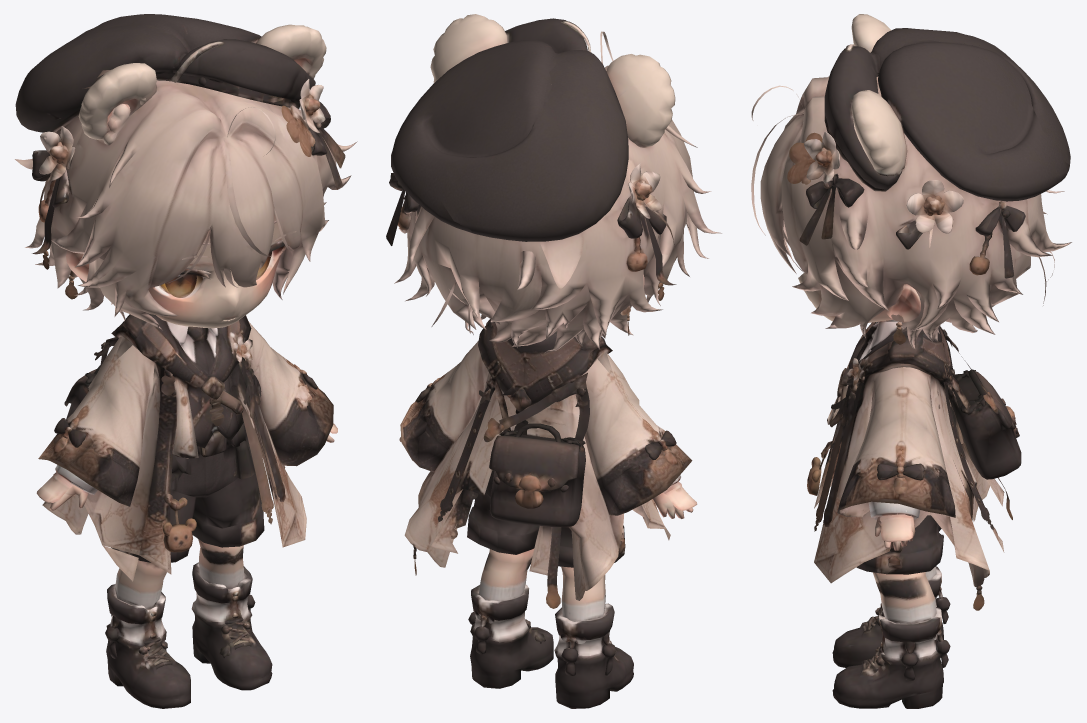
The model's file is source.glb.
3 views of the same model, side by side, from view 1: azimuth 30°, elevation 25°; view 2: azimuth 150°, elevation 25°; view 3: azimuth 270°, elevation 25° (orthographic). The views are drawn at different scales.
Visible parts, largest first — view 1: tripo_part_0, tripo_part_1, tripo_part_19, tripo_part_4, tripo_part_5, tripo_part_2, tripo_part_3, tripo_part_15, tripo_part_11, tripo_part_9, tripo_part_13, tripo_part_8 (+18 smaller); view 2: tripo_part_0, tripo_part_4, tripo_part_1, tripo_part_8, tripo_part_19, tripo_part_6, tripo_part_5, tripo_part_2, tripo_part_3, tripo_part_13, tripo_part_14, tripo_part_9 (+11 smaller); view 3: tripo_part_0, tripo_part_8, tripo_part_1, tripo_part_5, tripo_part_2, tripo_part_11, tripo_part_6, tripo_part_14, tripo_part_4, tripo_part_36, tripo_part_9, tripo_part_16 (+12 smaller).
Part boxes in pixels (box(x1,y1,x2,y2)): tripo_part_0: box(15, 69, 357, 330); tripo_part_1: box(42, 313, 306, 574); tripo_part_19: box(38, 337, 154, 506); tripo_part_4: box(15, 23, 187, 132); tripo_part_5: box(245, 321, 333, 466); tripo_part_2: box(191, 562, 272, 690); tripo_part_3: box(106, 584, 190, 708); tripo_part_15: box(66, 214, 283, 328); tripo_part_11: box(172, 39, 315, 102); tripo_part_9: box(192, 460, 264, 547); tripo_part_13: box(78, 63, 156, 140); tripo_part_8: box(49, 14, 261, 132); tripo_part_0: box(394, 65, 721, 352); tripo_part_4: box(440, 50, 628, 241); tripo_part_1: box(404, 319, 665, 600); tripo_part_8: box(391, 40, 561, 232); tripo_part_19: box(575, 353, 692, 515); tripo_part_6: box(489, 434, 585, 527); tripo_part_5: box(400, 341, 488, 472); tripo_part_2: box(470, 585, 553, 688); tripo_part_3: box(554, 603, 633, 708); tripo_part_13: box(606, 54, 675, 147); tripo_part_14: box(430, 14, 507, 82); tripo_part_9: box(467, 492, 539, 554); tripo_part_0: box(760, 76, 1071, 349); tripo_part_8: box(877, 39, 1069, 201); tripo_part_1: box(814, 321, 1004, 586); tripo_part_5: box(837, 367, 955, 517); tripo_part_2: box(832, 607, 943, 708); tripo_part_11: box(824, 46, 902, 189); tripo_part_6: box(948, 371, 1021, 479); tripo_part_14: box(851, 90, 907, 176); tripo_part_4: box(872, 28, 1070, 164); tripo_part_36: box(873, 572, 936, 624); tripo_part_9: box(856, 515, 943, 574); tripo_part_16: box(906, 180, 963, 233).
Bounding box in the file's own units: 0.4783 × 1 × 0.4587.
Materials: 1 (1 with a texture image).
